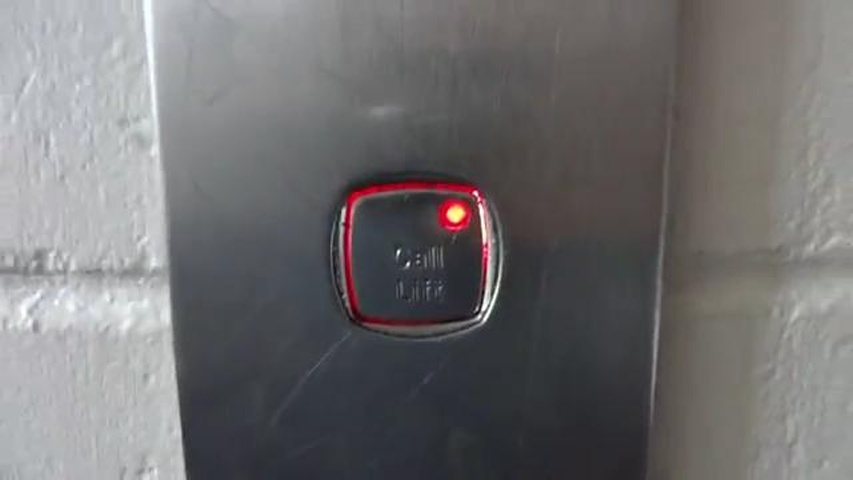text_call lift: (316, 164, 516, 344)
